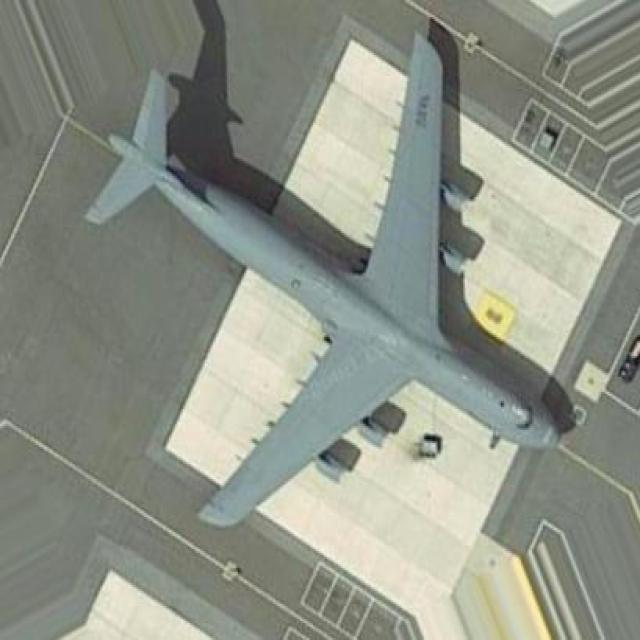C-5_TopDown: (83, 0, 580, 530)
